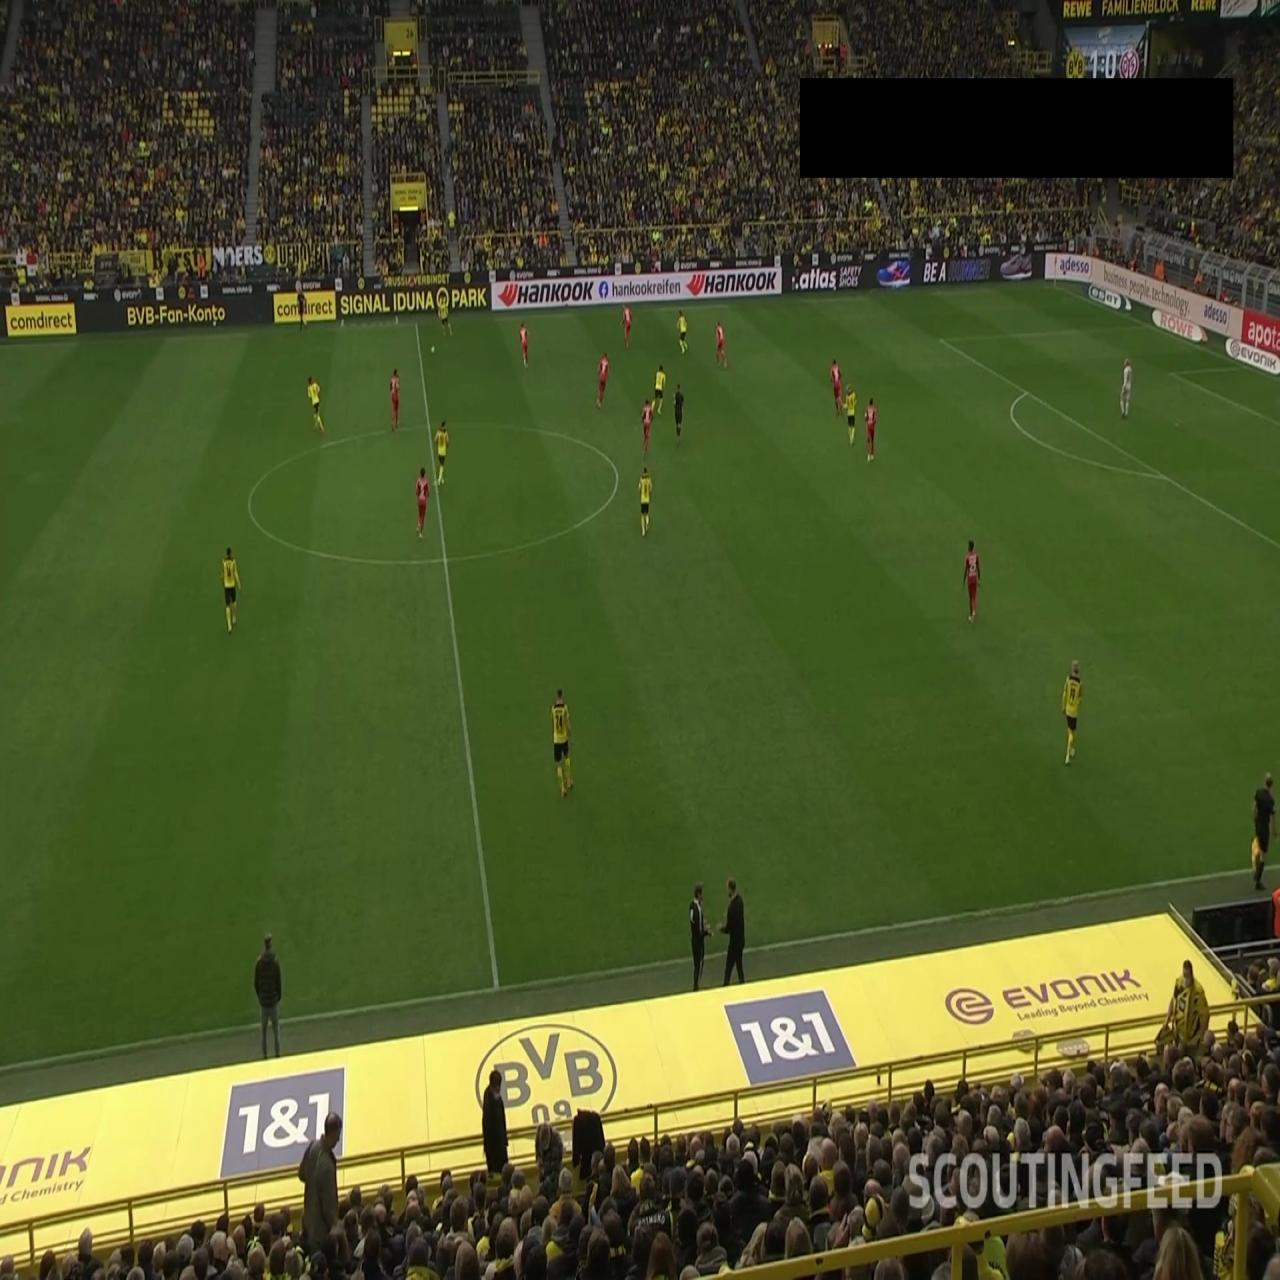ball: (431, 345, 435, 355)
goalkeeper: (1120, 357, 1133, 418)
player: (551, 686, 573, 799), (1061, 659, 1083, 766), (221, 545, 242, 634), (962, 540, 981, 624), (306, 373, 324, 434), (415, 466, 430, 539), (638, 466, 653, 537), (435, 420, 449, 484), (864, 396, 877, 462), (652, 361, 666, 416), (389, 368, 401, 432), (830, 358, 843, 417), (845, 384, 857, 447), (596, 351, 609, 409), (641, 397, 653, 454), (715, 320, 728, 369), (438, 296, 452, 338), (621, 304, 633, 350), (677, 310, 688, 354), (518, 322, 528, 368)
referee: (1251, 772, 1277, 890), (673, 380, 685, 446), (296, 280, 307, 331)
